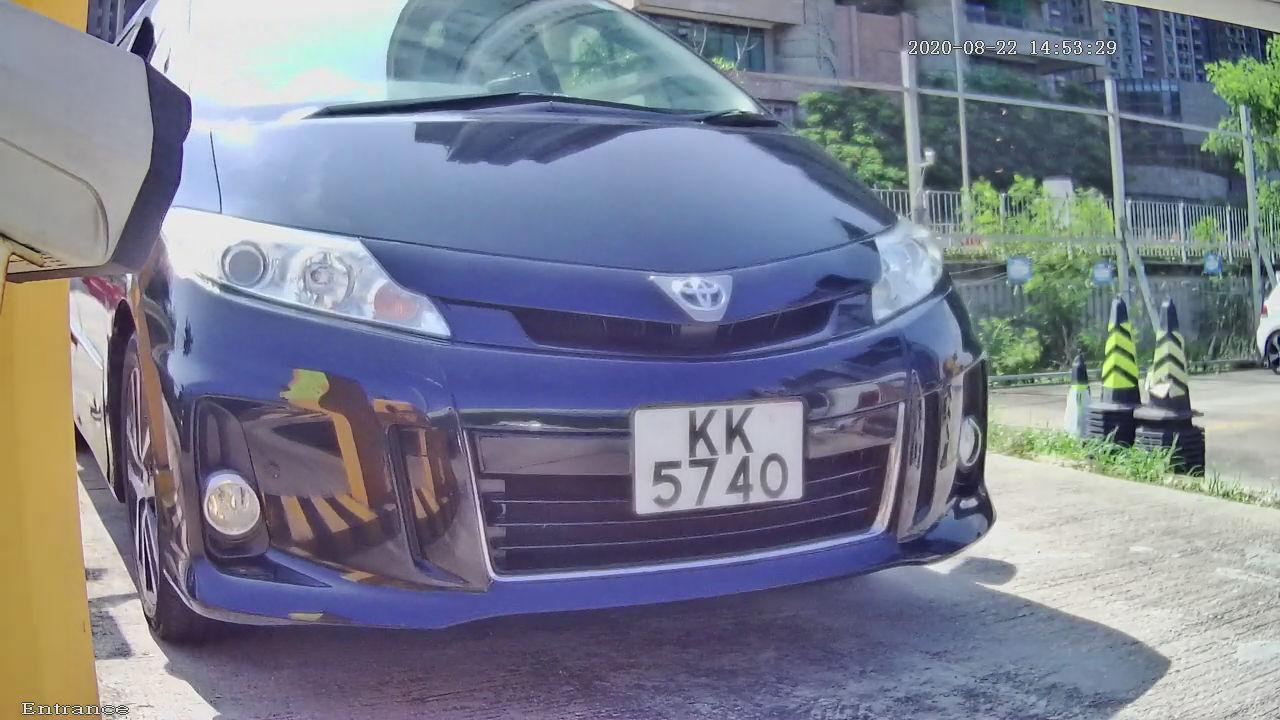Car: (63, 4, 1063, 711)
License Plate: (606, 377, 818, 534)
